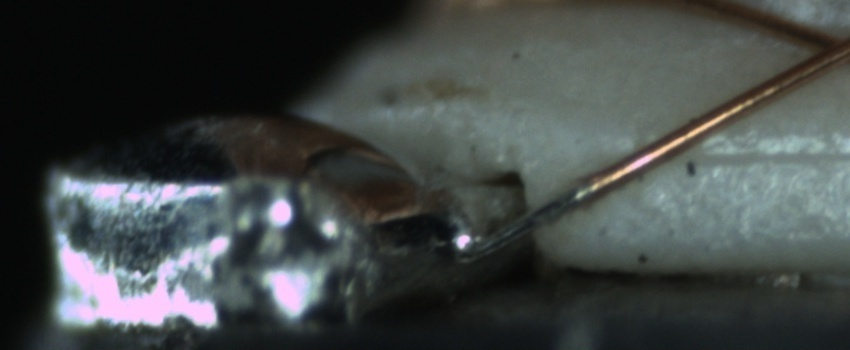CL: (796, 16, 850, 75)
DL: (679, 120, 847, 189)
TS: (447, 179, 593, 265)
